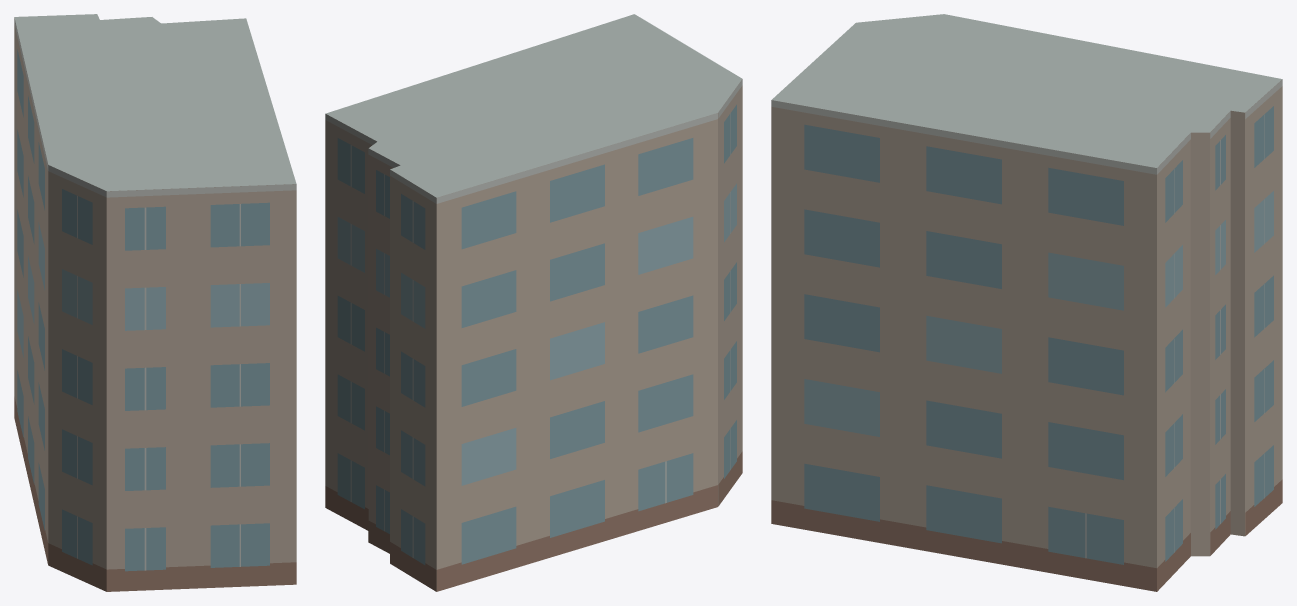
Rendered from survey-upis-32781803.glb.
3 renders of one model, left to right at view 1: azimuth 30°, elevation 25°; view 2: azimuth 150°, elevation 25°; view 3: azimuth 270°, elevation 25°, orthographic. The views are drawn at different scales.
Visible parts, largest first — view 1: survey-upis-32781803.tmp; view 2: survey-upis-32781803.tmp; view 3: survey-upis-32781803.tmp.
Part boxes in pixels (box(x1,y1,x2,y2)): survey-upis-32781803.tmp: box(14, 14, 296, 591); survey-upis-32781803.tmp: box(325, 14, 742, 591); survey-upis-32781803.tmp: box(771, 14, 1282, 591).
Bounding box in the file's own units: 12.02 × 15.4 × 16.85.
